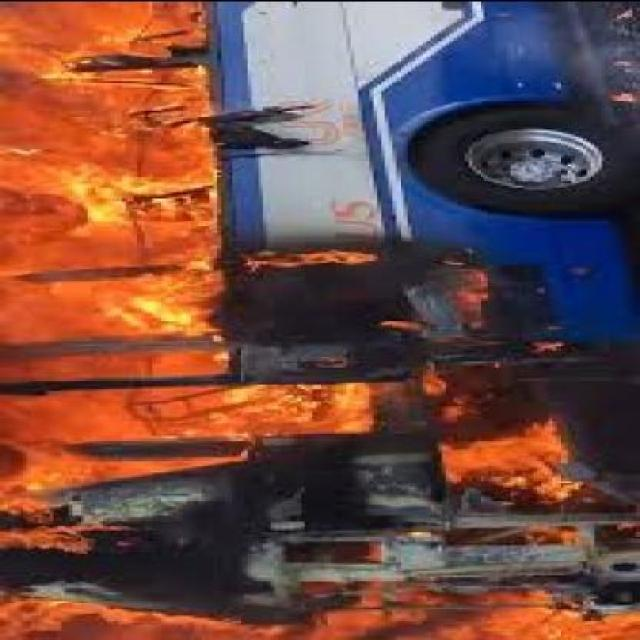Fire: (0, 0, 236, 491), (6, 582, 640, 640), (428, 372, 588, 509), (211, 358, 404, 459)
